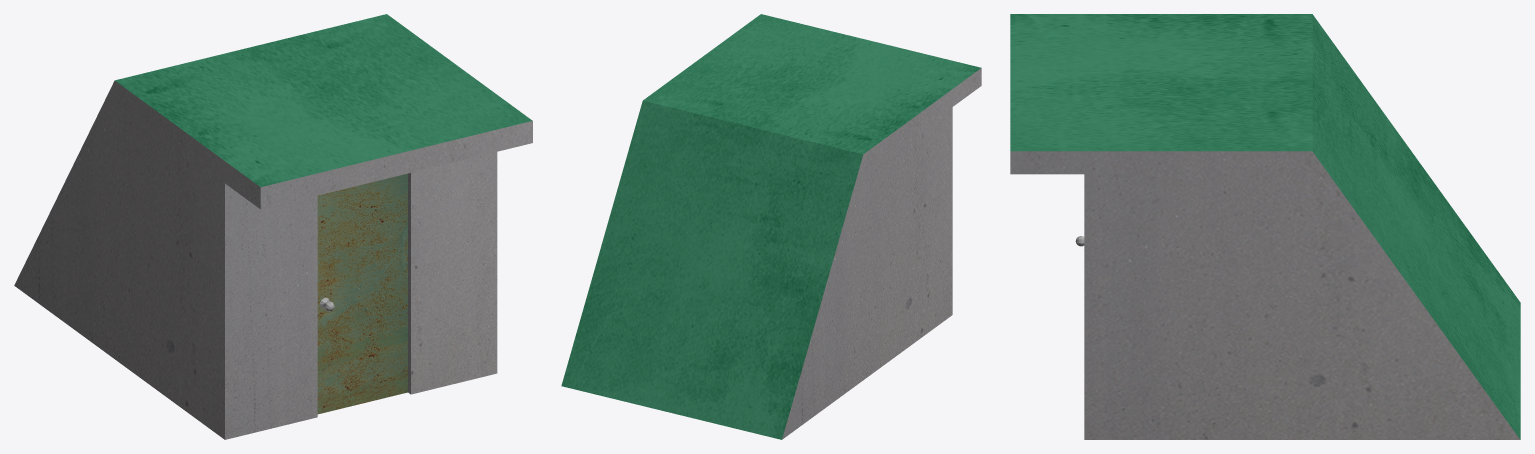
File: Roof_Entrance_002.fbx
The picture shows the model from 3 angles, left to right: view 1: azimuth 30°, elevation 25°; view 2: azimuth 150°, elevation 25°; view 3: azimuth 270°, elevation 25°; orthographic projection. The views are drawn at different scales.
Visible parts, largest first — view 1: Roof_Entrance_002; view 2: Roof_Entrance_002; view 3: Roof_Entrance_002.
Part boxes in pixels (x1,y1,x2,y2): Roof_Entrance_002: (14, 14, 532, 439); Roof_Entrance_002: (561, 14, 981, 439); Roof_Entrance_002: (1010, 14, 1520, 439).
Bounding box in the file's own units: 286 × 280 × 448.
Materials: 1 (1 with a texture image).
